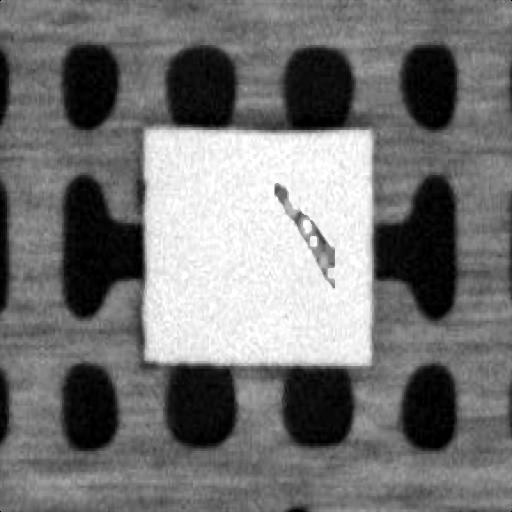DIE_INK: (273, 172, 333, 278)
